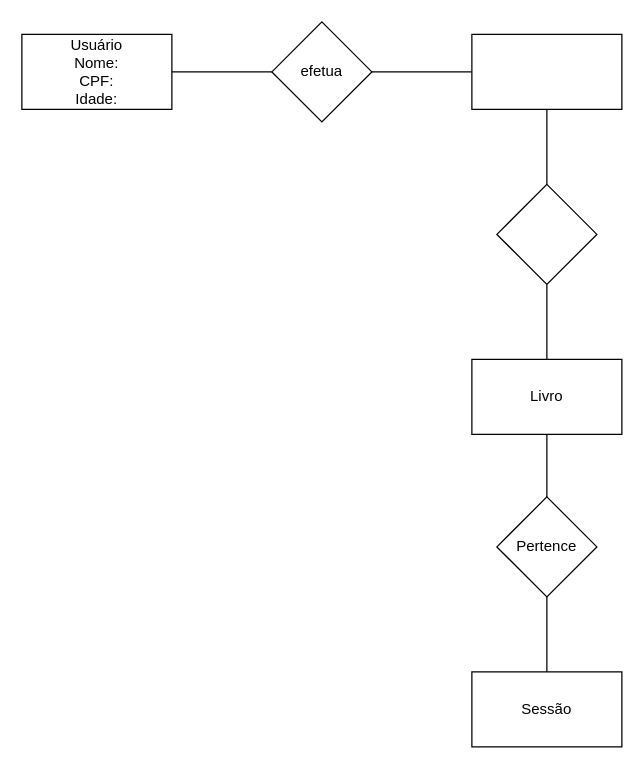
The diagram is 644 pixels wide and 769 high, and some of its shapes have lost their labels. The shapes that lost their labels are listed below. From the top down, each one's centre as x and y in pixels, then its label:
the point at 546,71: Empréstimo
the point at 546,233: contém
